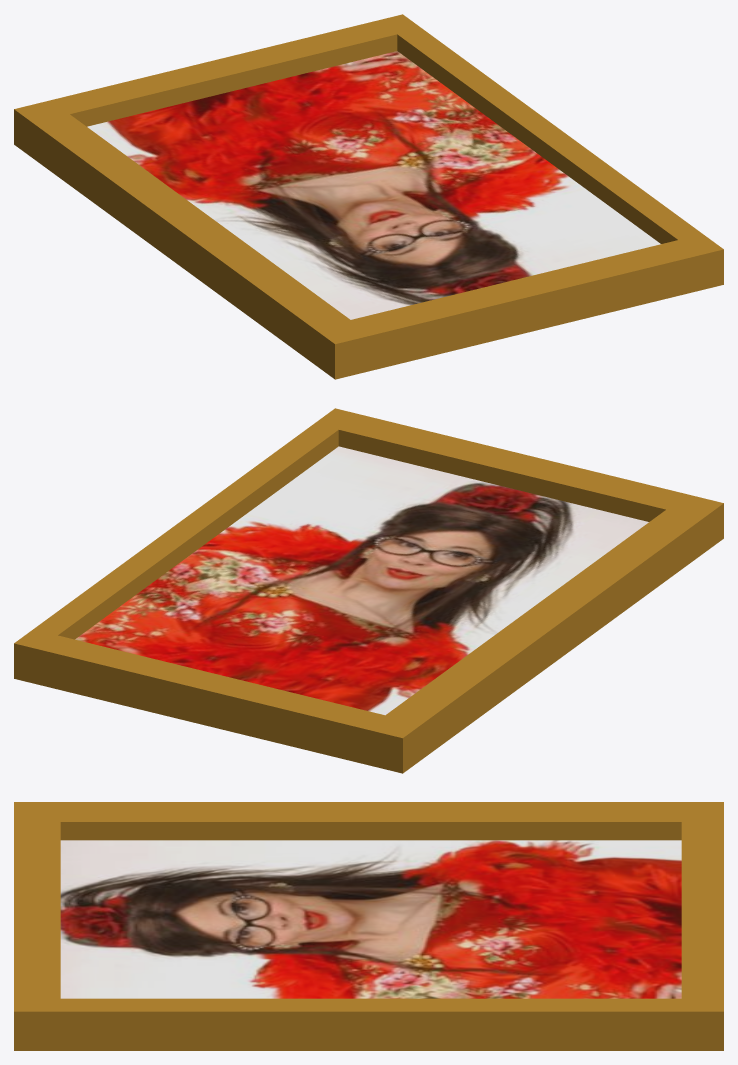
The model's file is tableau  criquette.fbx.
3 views of the same model, one above another, from view 1: azimuth 30°, elevation 25°; view 2: azimuth 150°, elevation 25°; view 3: azimuth 270°, elevation 25° (orthographic). The views are drawn at different scales.
Visible parts, largest first — view 1: Cube; view 2: Cube; view 3: Cube.
Part boxes in pixels (left/top/right/bottom): Cube: left=14, top=14, right=723, bottom=379; Cube: left=14, top=408, right=723, bottom=773; Cube: left=14, top=802, right=723, bottom=1050.
Size of the model in its own units: 200 by 17.39 by 286.
Materials: 1 (1 with a texture image).
